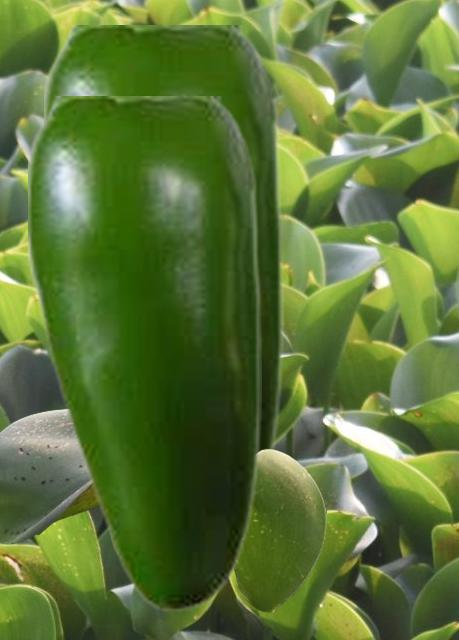green_chili: (28, 96, 260, 612), (44, 25, 282, 450)
